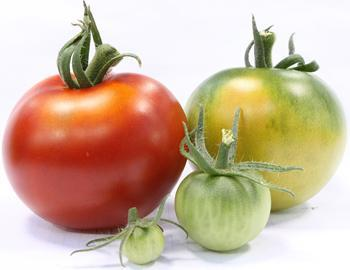healthy-tomato: (5, 11, 189, 234)
